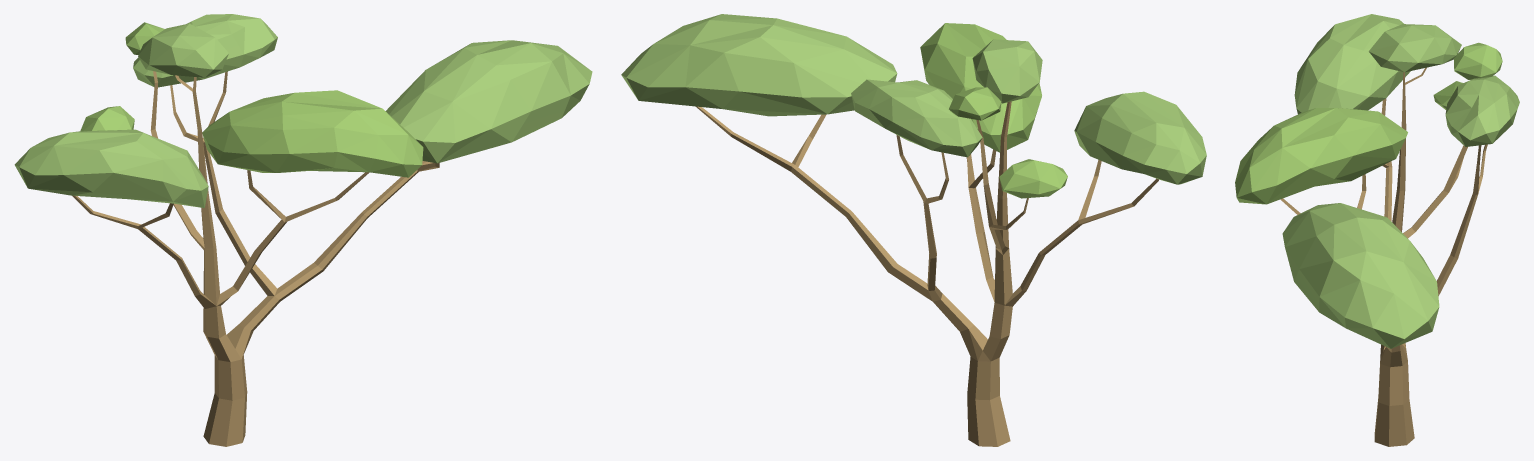
The model's file is acaciatree1.fbx.
3 renders of one model, left to right at view 1: azimuth 30°, elevation 25°; view 2: azimuth 150°, elevation 25°; view 3: azimuth 270°, elevation 25°, orthographic. The views are drawn at different scales.
Visible parts, largest first — view 1: Acacia_Tree_l_01; view 2: Acacia_Tree_l_01; view 3: Acacia_Tree_l_01.
Part boxes in pixels (x1,y1,x2,y2): Acacia_Tree_l_01: [14, 14, 592, 446]; Acacia_Tree_l_01: [621, 14, 1206, 446]; Acacia_Tree_l_01: [1235, 14, 1519, 446].
Size of the model in its own units: 765 by 1722 by 1171.
1 material, 1 textured.
